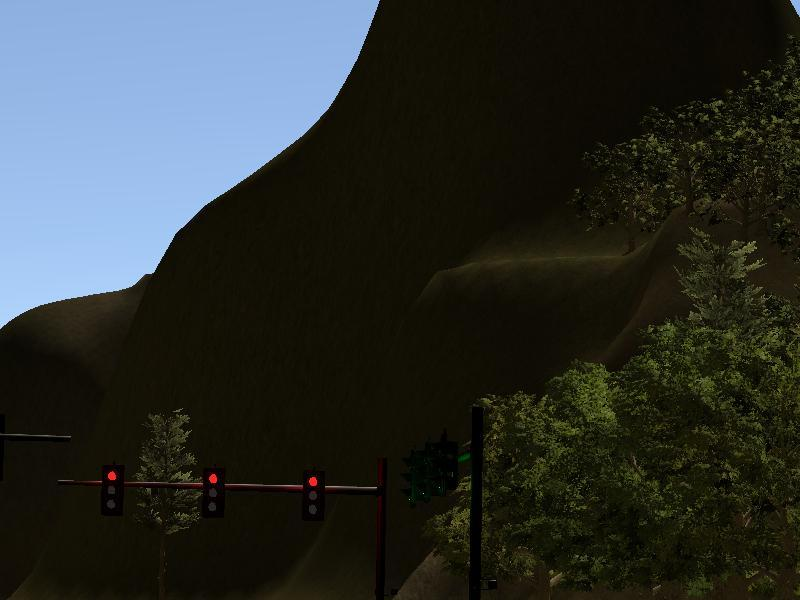Red: (102, 465, 125, 514), (203, 464, 224, 516), (302, 471, 324, 519)
